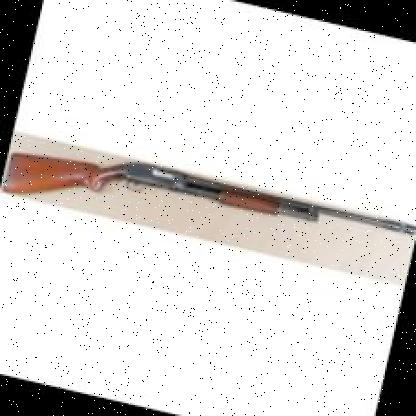rifle: (0, 131, 416, 285)
